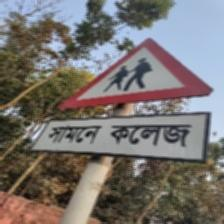College-in-front: (26, 39, 201, 160)
